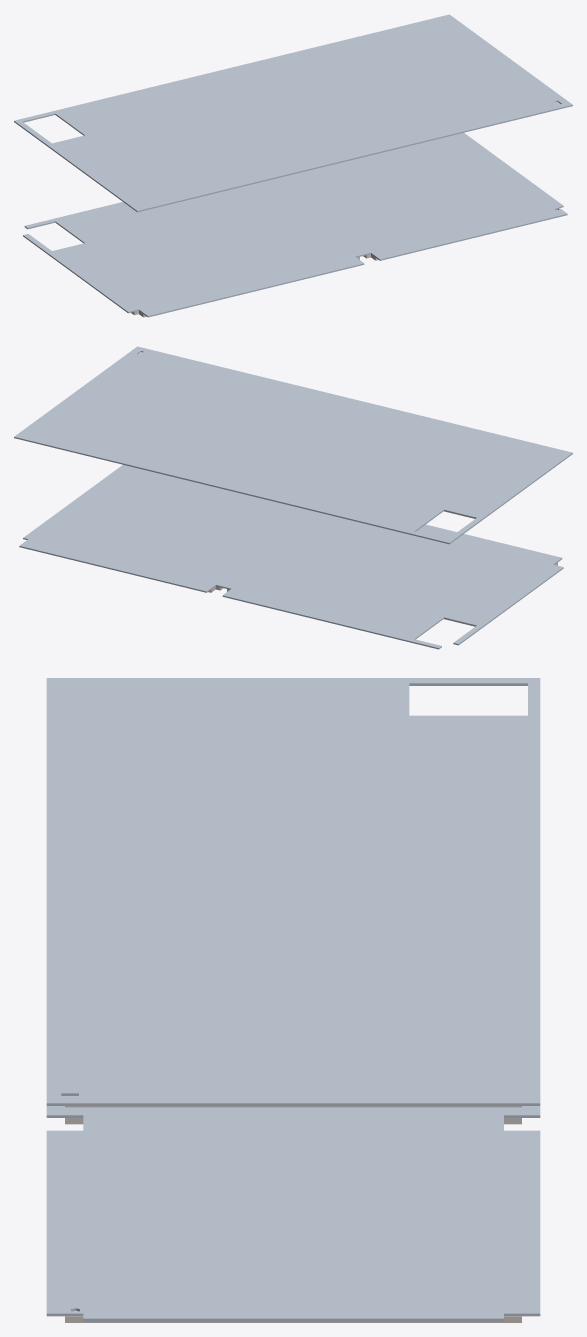
3 views of the same model, one above another, from view 1: azimuth 30°, elevation 25°; view 2: azimuth 150°, elevation 25°; view 3: azimuth 270°, elevation 25° (orthographic). The views are drawn at different scales.
Parts seen in each view (by area): view 1: 建筑-50 [4484413][9261b963-cb5c-4ad6-a3ee-03db6ec1c820-00446d3, 建筑-50 [4484572][9261b963-cb5c-4ad6-a3ee-03db6ec1c820-00446dd; view 2: 建筑-50 [4484413][9261b963-cb5c-4ad6-a3ee-03db6ec1c820-00446d3, 建筑-50 [4484572][9261b963-cb5c-4ad6-a3ee-03db6ec1c820-00446dd; view 3: 建筑-50 [4484413][9261b963-cb5c-4ad6-a3ee-03db6ec1c820-00446d3, 建筑-50 [4484572][9261b963-cb5c-4ad6-a3ee-03db6ec1c820-00446dd, 现场浇注混凝土--120 [4478633][9261b963-cb5c-4ad6-a3ee-03db6ec1c820-, 现场浇注混凝土--120 [4478697][9261b963-cb5c-4ad6-a3ee-03db6ec1c820-.
Part boxes in pixels (x1=…): 建筑-50 [4484413][9261b963-cb5c-4ad6-a3ee-03db6ec1c820-00446d3: x1=14, y1=14, x2=572, y2=212; 建筑-50 [4484572][9261b963-cb5c-4ad6-a3ee-03db6ec1c820-00446dd: x1=23, y1=133, x2=567, y2=317; 建筑-50 [4484413][9261b963-cb5c-4ad6-a3ee-03db6ec1c820-00446d3: x1=14, y1=346, x2=572, y2=544; 建筑-50 [4484572][9261b963-cb5c-4ad6-a3ee-03db6ec1c820-00446dd: x1=19, y1=465, x2=563, y2=649; 建筑-50 [4484413][9261b963-cb5c-4ad6-a3ee-03db6ec1c820-00446d3: x1=46, y1=678, x2=540, y2=1105; 建筑-50 [4484572][9261b963-cb5c-4ad6-a3ee-03db6ec1c820-00446dd: x1=46, y1=1096, x2=540, y2=1321; 现场浇注混凝土--120 [4478633][9261b963-cb5c-4ad6-a3ee-03db6ec1c820-: x1=65, y1=1310, x2=521, y2=1322; 现场浇注混凝土--120 [4478697][9261b963-cb5c-4ad6-a3ee-03db6ec1c820-: x1=65, y1=1096, x2=521, y2=1107.
Size of the model in its own units: 16.5 by 4.07 by 8.1.
